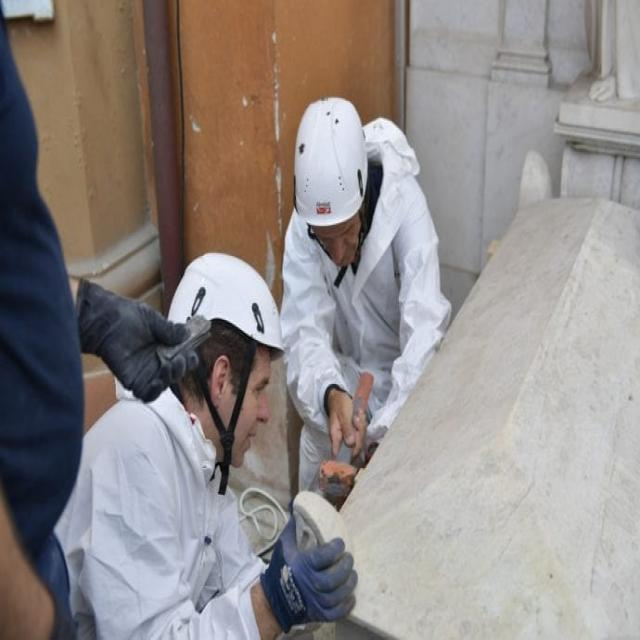Safety-Helmet: (157, 240, 286, 367), (289, 87, 369, 229)
